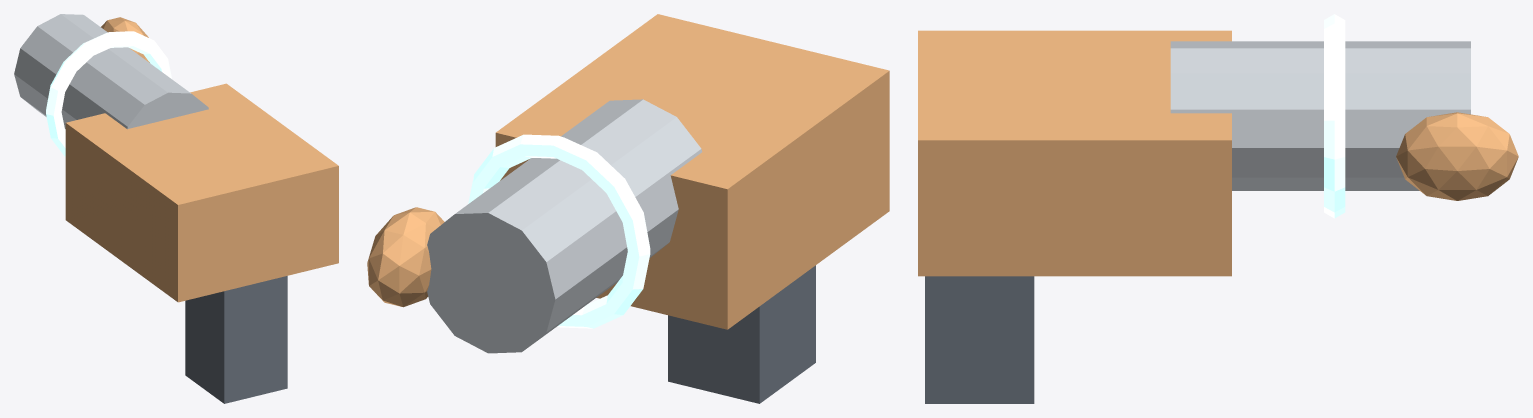
File: pistola_1.glb
3 renders of one model, left to right at view 1: azimuth 30°, elevation 25°; view 2: azimuth 150°, elevation 25°; view 3: azimuth 270°, elevation 25°, orthographic. The views are drawn at different scales.
Parts seen in each view (by area): view 1: cuerpo, cañon, empuñadura, bobina, punta; view 2: cuerpo, cañon, empuñadura, bobina, punta; view 3: cuerpo, cañon, empuñadura, punta, bobina.
Boxes of the visible parts, left/top/right/bottom form: cuerpo: left=65, top=83, right=338, bottom=302; cañon: left=14, top=14, right=208, bottom=129; empuñadura: left=185, top=276, right=287, bottom=403; bobina: left=46, top=31, right=171, bottom=156; punta: left=101, top=17, right=149, bottom=62; cuerpo: left=495, top=14, right=889, bottom=329; cañon: left=427, top=99, right=702, bottom=353; empuñadura: left=668, top=265, right=815, bottom=403; bobina: left=468, top=134, right=650, bottom=328; punta: left=367, top=207, right=444, bottom=307; cuerpo: left=918, top=30, right=1231, bottom=276; cañon: left=1170, top=41, right=1470, bottom=190; empuñadura: left=925, top=276, right=1034, bottom=403; punta: left=1396, top=112, right=1518, bottom=200; bobina: left=1324, top=14, right=1345, bottom=218.
Bounding box in the file's own units: 0.3886 × 0.5932 × 0.9.
